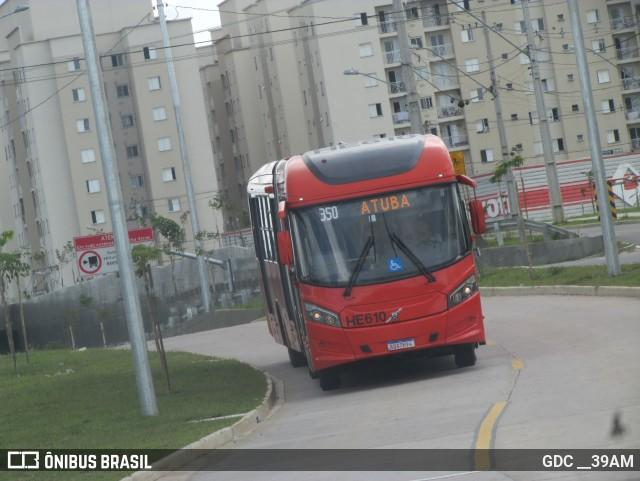ATUBA: (354, 191, 416, 218)
